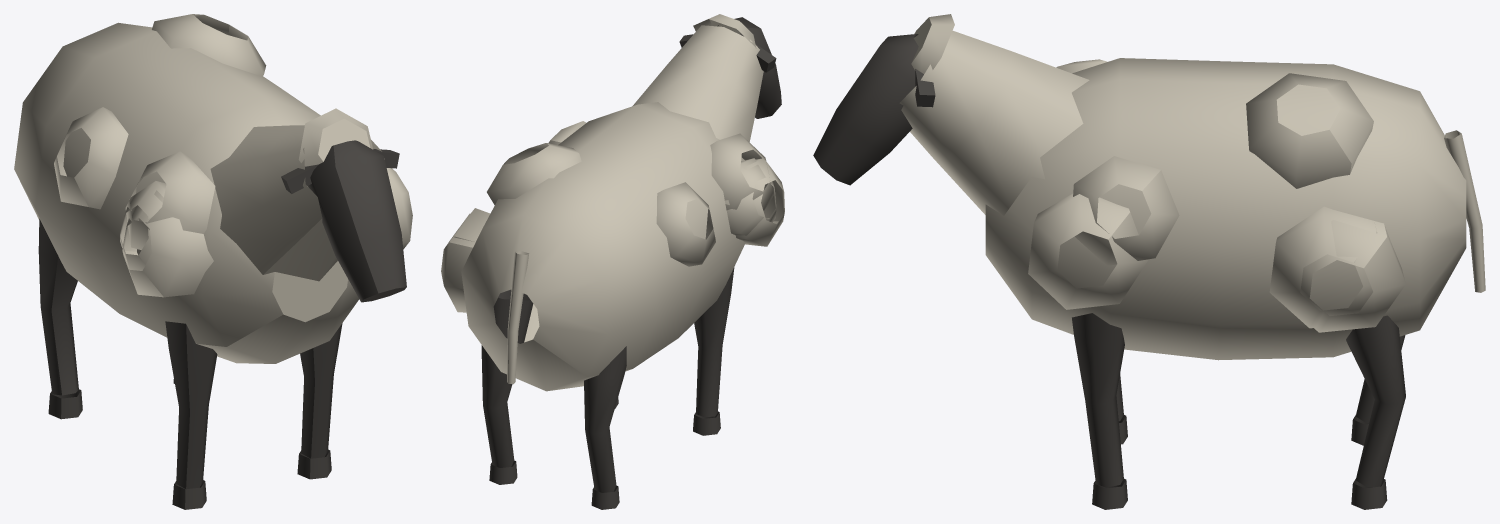
The model's file is sheep.glb.
3 renders of one model, left to right at view 1: azimuth 30°, elevation 25°; view 2: azimuth 150°, elevation 25°; view 3: azimuth 270°, elevation 25°, orthographic. The views are drawn at different scales.
Visible parts, largest first — view 1: sheep, sheep-face; view 2: sheep, sheep-face; view 3: sheep, sheep-face.
Part boxes in pixels (left/top/right/bottom): sheep: left=14, top=14, right=412, bottom=363; sheep-face: left=38, top=140, right=406, bottom=509; sheep: left=441, top=14, right=784, bottom=391; sheep-face: left=481, top=17, right=781, bottom=509; sheep: left=899, top=14, right=1485, bottom=360; sheep-face: left=813, top=34, right=1405, bottom=509.
Size of the model in its own units: 0.7161 by 1.08 by 1.46.
